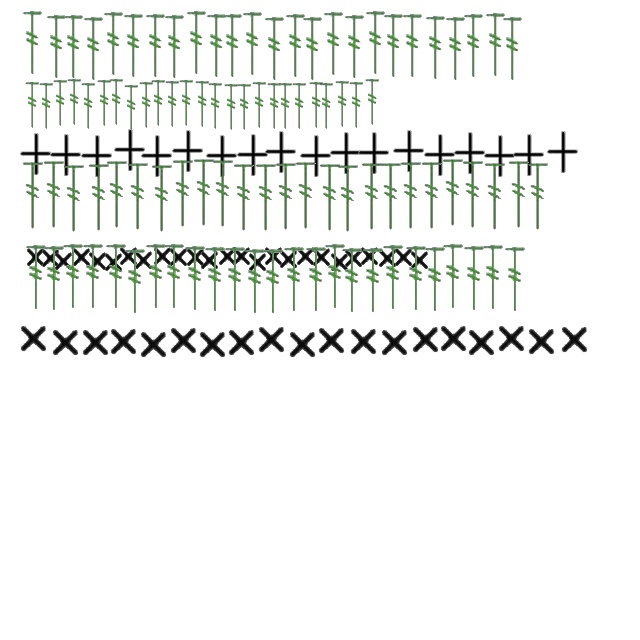double: (48, 134, 82, 178), (170, 130, 204, 174), (235, 134, 269, 178), (328, 132, 362, 176), (356, 132, 390, 176), (391, 130, 425, 174), (422, 134, 456, 178), (452, 132, 486, 176), (511, 134, 545, 178), (18, 134, 52, 176), (79, 136, 113, 178), (112, 130, 146, 172), (139, 136, 173, 178), (204, 136, 238, 178), (263, 132, 297, 174), (298, 136, 332, 178), (482, 136, 516, 178), (545, 132, 579, 174), (108, 324, 140, 358), (256, 322, 288, 356), (348, 324, 380, 358), (410, 322, 442, 356), (526, 324, 558, 358), (18, 322, 50, 354), (50, 326, 82, 358), (80, 326, 112, 358), (138, 328, 170, 360), (168, 324, 200, 356), (226, 326, 258, 358), (316, 324, 348, 356), (438, 322, 470, 354), (466, 326, 498, 358), (496, 322, 528, 354), (560, 322, 590, 356), (198, 328, 228, 360), (288, 328, 318, 360), (380, 326, 410, 358), (40, 246, 62, 270), (118, 244, 140, 268), (152, 244, 174, 268), (168, 246, 190, 268), (278, 248, 300, 270), (104, 250, 124, 274), (134, 248, 154, 272), (200, 248, 220, 272), (218, 244, 238, 268), (232, 244, 252, 268), (248, 250, 268, 274), (264, 244, 284, 268), (296, 244, 316, 268), (330, 250, 350, 274), (344, 246, 364, 270), (360, 244, 380, 268), (378, 246, 398, 270), (410, 248, 430, 272), (26, 246, 46, 268), (54, 250, 74, 272), (72, 246, 92, 268), (88, 250, 108, 272), (186, 246, 206, 268), (312, 246, 332, 268), (394, 246, 414, 268)
fan: (41, 158, 67, 232), (61, 162, 87, 236), (104, 158, 130, 232), (125, 160, 151, 234), (149, 162, 175, 236), (191, 156, 217, 230), (273, 160, 299, 234), (335, 162, 361, 236), (359, 160, 385, 234), (378, 160, 404, 234), (440, 156, 466, 230), (460, 158, 486, 232), (482, 160, 508, 234), (506, 158, 532, 232), (525, 160, 551, 234), (20, 160, 46, 232), (86, 162, 112, 234), (170, 158, 196, 230), (210, 158, 236, 230), (231, 162, 257, 234), (253, 162, 279, 234), (293, 160, 319, 232), (317, 162, 343, 234), (398, 160, 424, 232), (419, 160, 445, 232), (24, 244, 48, 312), (282, 246, 306, 314), (304, 246, 328, 314), (42, 246, 66, 312), (104, 244, 128, 310), (144, 244, 168, 310), (162, 244, 186, 310), (340, 248, 364, 314), (404, 246, 428, 312), (462, 246, 486, 312), (124, 248, 146, 316), (204, 246, 226, 314), (224, 246, 246, 314), (244, 248, 266, 316), (262, 248, 284, 316), (382, 244, 404, 312), (424, 246, 446, 314), (482, 244, 504, 312), (504, 246, 526, 314), (21, 10, 43, 76), (45, 14, 67, 80), (62, 14, 84, 80), (82, 16, 104, 82), (102, 11, 124, 77), (122, 13, 144, 79), (144, 13, 166, 79), (163, 14, 185, 80), (185, 10, 207, 76), (205, 13, 227, 79), (221, 13, 243, 79), (241, 11, 263, 77), (263, 16, 285, 82), (284, 13, 306, 79), (301, 16, 323, 82), (322, 11, 344, 77), (343, 14, 365, 80), (364, 10, 386, 76), (382, 13, 404, 79), (401, 13, 423, 79), (424, 15, 446, 81), (444, 16, 466, 82), (462, 13, 484, 79), (484, 12, 506, 78), (501, 16, 523, 82), (62, 244, 84, 310), (82, 244, 104, 310), (184, 246, 206, 312), (324, 244, 346, 310), (362, 248, 384, 314), (442, 244, 464, 310), (24, 81, 40, 129), (38, 82, 54, 130), (52, 79, 68, 127), (66, 78, 82, 126), (80, 82, 96, 130), (96, 79, 112, 127), (108, 78, 124, 126), (123, 84, 139, 132), (138, 81, 154, 129), (150, 79, 166, 127), (164, 80, 180, 128), (178, 79, 194, 127), (194, 80, 210, 128), (207, 82, 223, 130), (223, 83, 239, 131), (236, 83, 252, 131), (251, 81, 267, 129), (266, 82, 282, 130), (277, 82, 293, 130), (291, 82, 307, 130), (308, 81, 324, 129), (318, 82, 334, 130), (334, 80, 350, 128), (348, 81, 364, 129), (364, 78, 380, 126)
